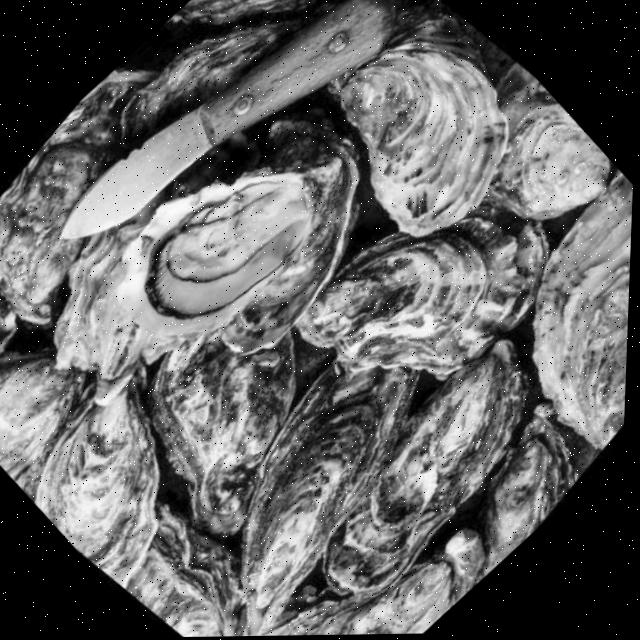Oyster-Closed: (399, 407, 600, 600)
Oyster-Indeterminate: (140, 322, 482, 638), (279, 328, 581, 616), (282, 146, 581, 436), (95, 275, 373, 547), (295, 0, 560, 255), (0, 48, 223, 319), (168, 133, 418, 372), (5, 363, 245, 597), (460, 170, 633, 458), (446, 73, 627, 250), (226, 509, 474, 636), (96, 488, 287, 638), (160, 0, 380, 96), (0, 314, 106, 480), (0, 245, 34, 404)
Oyster-Open: (85, 93, 375, 372)
